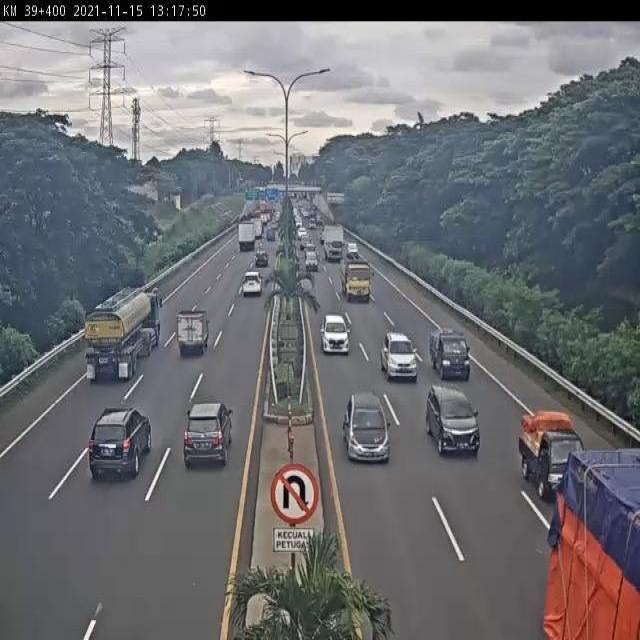car: (87, 405, 153, 479), (425, 383, 481, 455), (343, 391, 393, 464), (185, 403, 233, 465), (381, 330, 419, 382), (320, 315, 351, 355), (242, 269, 264, 296)
truck: (82, 288, 164, 381), (517, 405, 588, 503), (430, 329, 470, 383), (339, 260, 373, 303), (177, 310, 210, 354)
